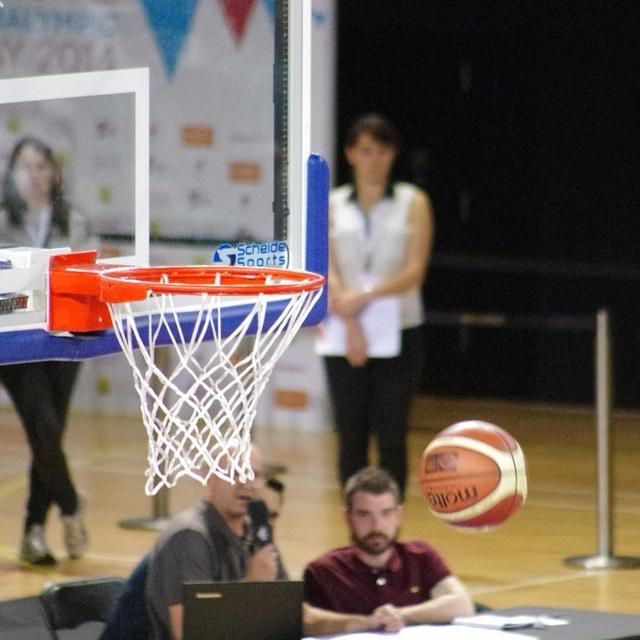basketball: (418, 419, 527, 528)
hoop: (97, 263, 325, 496)
